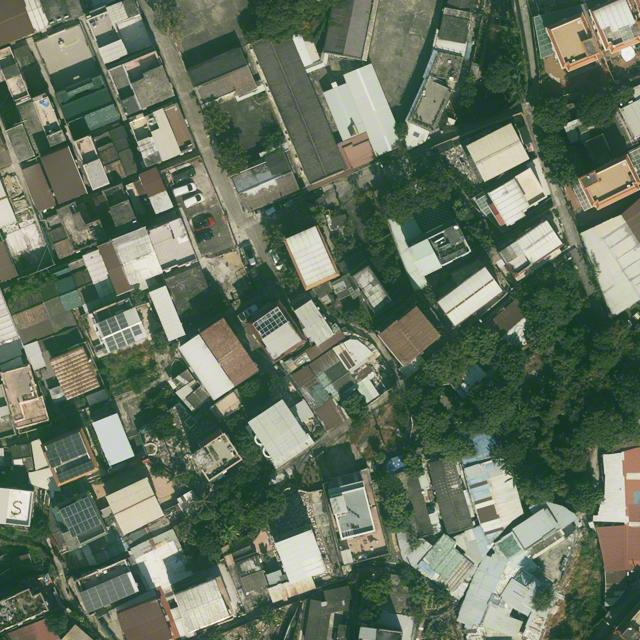panel: (80, 573, 135, 614), (61, 497, 100, 539), (45, 432, 87, 468), (106, 326, 142, 353), (57, 461, 94, 483), (99, 313, 129, 337)
